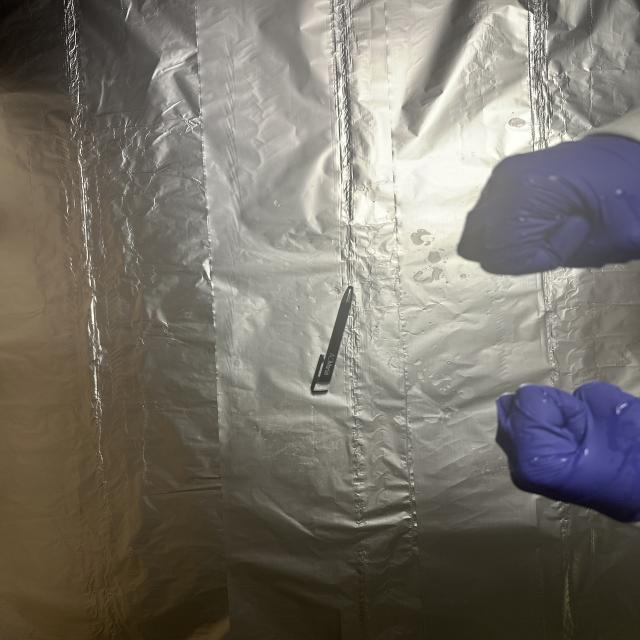gloves_contaminated: (458, 133, 640, 275), (496, 382, 640, 522)
